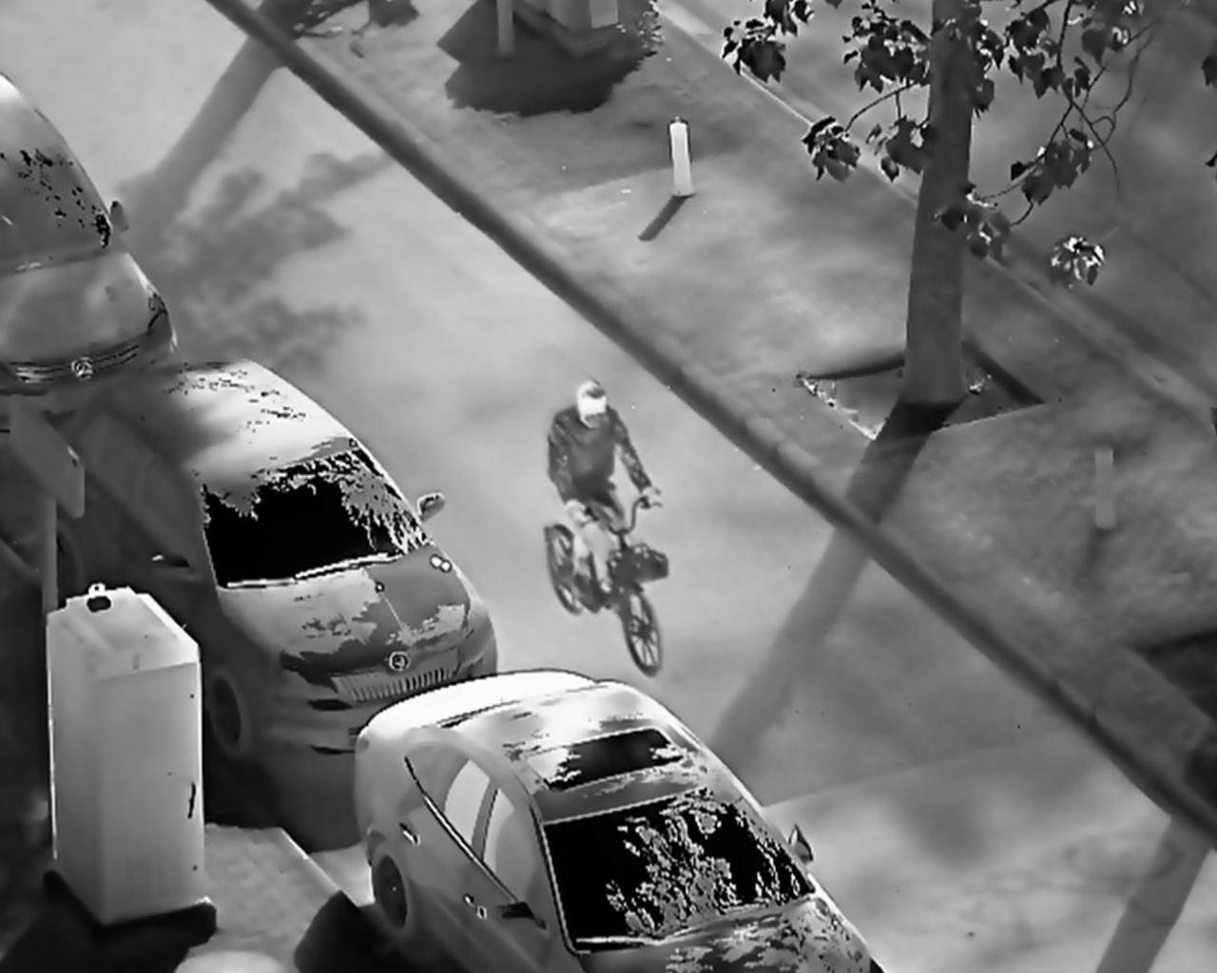person: (544, 379, 666, 607)
